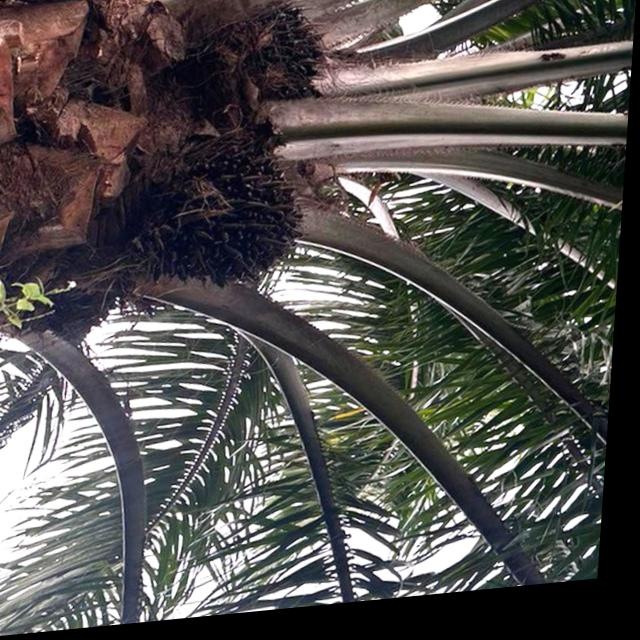ripe: (154, 135, 320, 305)
